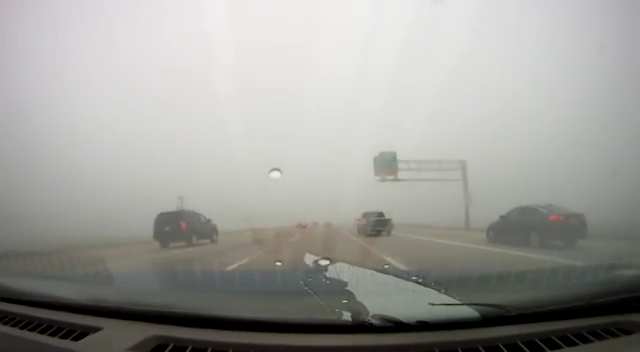car: (486, 203, 589, 248), (153, 209, 219, 248), (355, 211, 394, 238)
